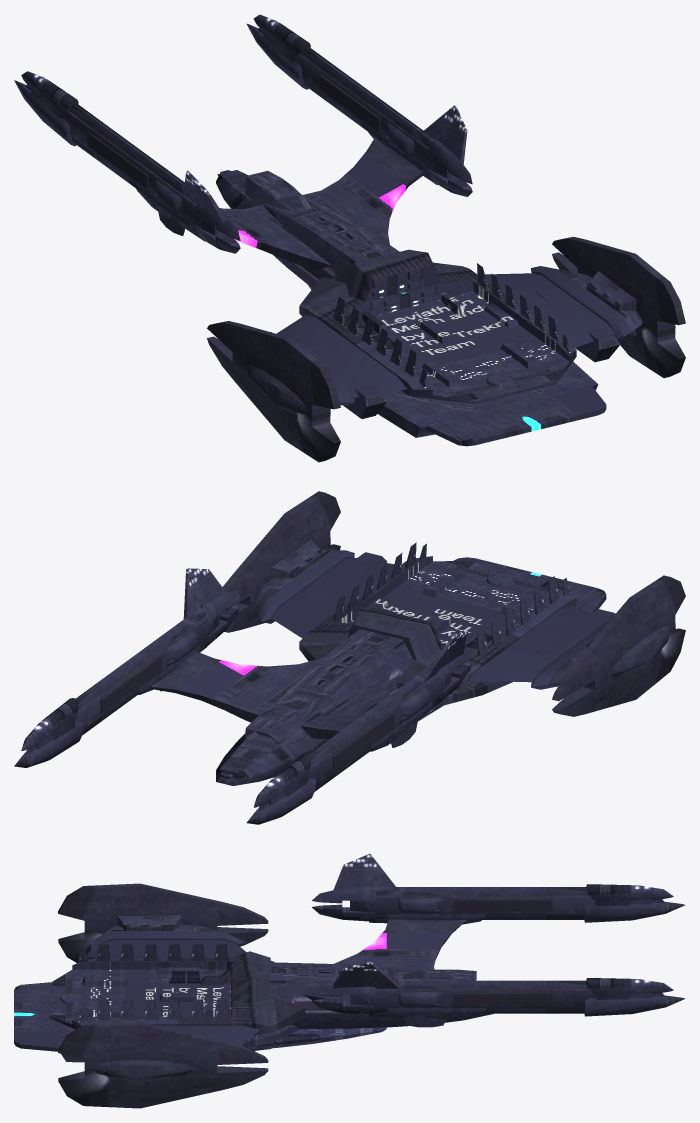
The model's file is Dom_Leviathan.fbx.
3 views of the same model, one above another, from view 1: azimuth 30°, elevation 25°; view 2: azimuth 150°, elevation 25°; view 3: azimuth 270°, elevation 25° (orthographic). The views are drawn at different scales.
Parts seen in each view (by area): view 1: Dom_Leviathan; view 2: Dom_Leviathan; view 3: Dom_Leviathan.
Boxes of the visible parts, x1,y1,x2,y2 form: Dom_Leviathan: (14,14,685,462); Dom_Leviathan: (14,491,685,824); Dom_Leviathan: (14,853,685,1108).
Bounding box in the file's own units: 355 × 159 × 666.
1 material, 1 textured.
